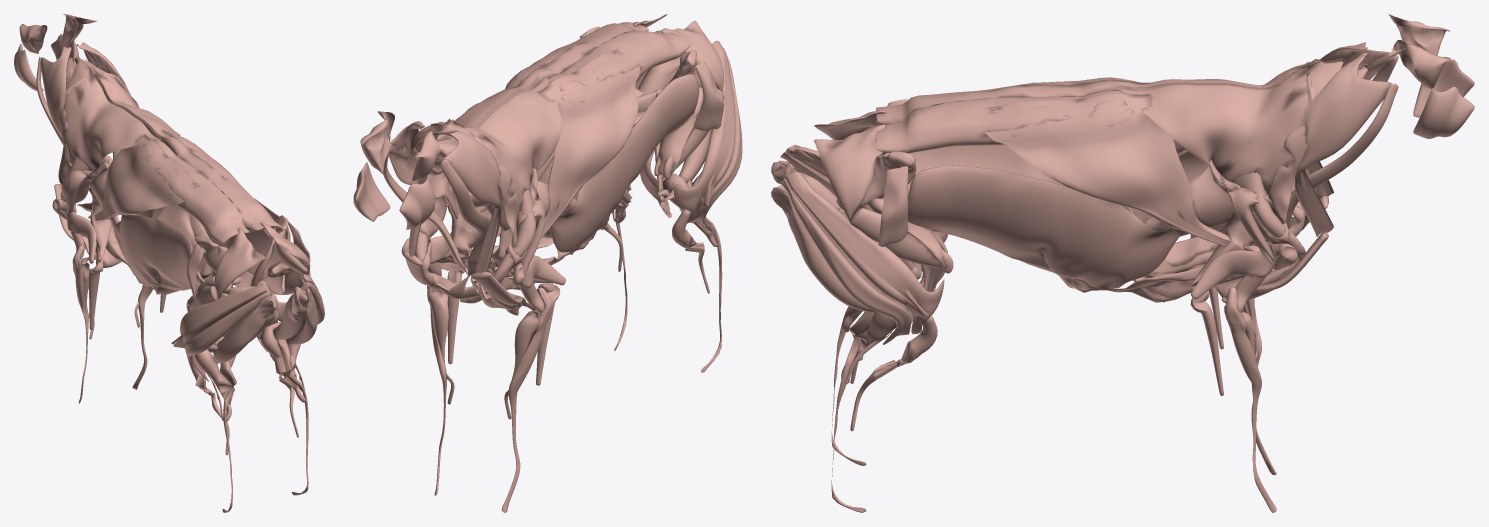
Rendered from muscular.glb.
The picture shows the model from 3 angles, left to right: view 1: azimuth 30°, elevation 25°; view 2: azimuth 150°, elevation 25°; view 3: azimuth 270°, elevation 25°; orthographic projection. The views are drawn at different scales.
Parts seen in each view (by area): view 1: cow_muscular_trapezius_L, cow_muscular_latissimus-dorsi_L, cow_muscular_obliquus-externus-abdominis_L, cow_muscular_epaxial_L, cow_muscular_epaxial_R, cow_muscular_biceps-femoris_cranial_L, cow_muscular_brachiocephalicus_cleidocephalicus_L, cow_muscular_gluteus-superficialis_L, cow_muscular_semitendinosus_L, cow_muscular_biceps-femoris_caudal_L, cow_muscular_obliquus-externus-abdominis_R, cow_muscular_trapezius_R (+33 smaller); view 2: cow_muscular_latissimus-dorsi_L, cow_muscular_obliquus-externus-abdominis_L, cow_muscular_trapezius_L, cow_muscular_epaxial_L, cow_muscular_brachiocephalicus_cleidocephalicus_L, cow_muscular_biceps-femoris_cranial_L, cow_muscular_epaxial_R, cow_muscular_sternocephalicus_L, cow_muscular_extensor-digitorum-communis_L, cow_muscular_brachiocephalicus_cleidocephalicus_R, cow_muscular_biceps-femoris_caudal_L, cow_muscular_tensor-fasciae-latae_L (+33 smaller); view 3: cow_muscular_obliquus-externus-abdominis_R, cow_muscular_latissimus-dorsi_R, cow_muscular_trapezius_R, cow_muscular_epaxial_R, cow_muscular_brachiocephalicus_cleidocephalicus_R, cow_muscular_biceps-femoris_cranial_R, cow_muscular_biceps-femoris_caudal_R, cow_muscular_epaxial_L, cow_muscular_gluteus-superficialis_R, cow_muscular_obliquus-externus-abdominis_L, cow_muscular_semitendinosus_R, cow_muscular_serratus-ventralis_R (+25 smaller).
Part boxes in pixels (x1,y1,x2,y2): cow_muscular_trapezius_L: (62,60,160,170); cow_muscular_latissimus-dorsi_L: (88,134,209,220); cow_muscular_obliquus-externus-abdominis_L: (110,215,228,297); cow_muscular_epaxial_L: (66,58,249,243); cow_muscular_epaxial_R: (74,56,283,231); cow_muscular_biceps-femoris_cranial_L: (171,283,266,359); cow_muscular_brachiocephalicus_cleidocephalicus_L: (40,46,71,185); cow_muscular_gluteus-superficialis_L: (214,227,265,298); cow_muscular_semitendinosus_L: (213,297,274,364); cow_muscular_biceps-femoris_caudal_L: (185,291,269,420); cow_muscular_obliquus-externus-abdominis_R: (195,198,290,294); cow_muscular_trapezius_R: (85,59,180,138); cow_muscular_latissimus-dorsi_L: (537,42,639,239); cow_muscular_obliquus-externus-abdominis_L: (550,74,699,254); cow_muscular_trapezius_L: (446,77,561,208); cow_muscular_epaxial_L: (437,30,690,159); cow_muscular_brachiocephalicus_cleidocephalicus_L: (442,131,501,273); cow_muscular_biceps-femoris_cranial_L: (673,40,735,223); cow_muscular_epaxial_R: (410,22,648,175); cow_muscular_sternocephalicus_L: (440,159,489,276); cow_muscular_extensor-digitorum-communis_L: (501,312,548,512); cow_muscular_brachiocephalicus_cleidocephalicus_R: (388,121,424,256); cow_muscular_biceps-femoris_caudal_L: (692,51,742,246); cow_muscular_tensor-fasciae-latae_L: (693,62,724,130); cow_muscular_obliquus-externus-abdominis_R: (907,165,1180,288); cow_muscular_latissimus-dorsi_R: (962,93,1260,251); cow_muscular_trapezius_R: (1118,60,1343,195); cow_muscular_epaxial_R: (876,67,1368,153); cow_muscular_brachiocephalicus_cleidocephalicus_R: (1294,52,1391,236); cow_muscular_biceps-femoris_cranial_R: (785,172,944,334); cow_muscular_biceps-femoris_caudal_R: (780,178,911,384); cow_muscular_epaxial_L: (876,62,1368,124); cow_muscular_gluteus-superficialis_R: (814,124,885,220); cow_muscular_obliquus-externus-abdominis_L: (909,145,1150,218); cow_muscular_semitendinosus_R: (771,185,912,322); cow_muscular_serratus-ventralis_R: (1143,165,1234,236).
Size of the model in its own units: 0.4008 by 1.03 by 1.41.
